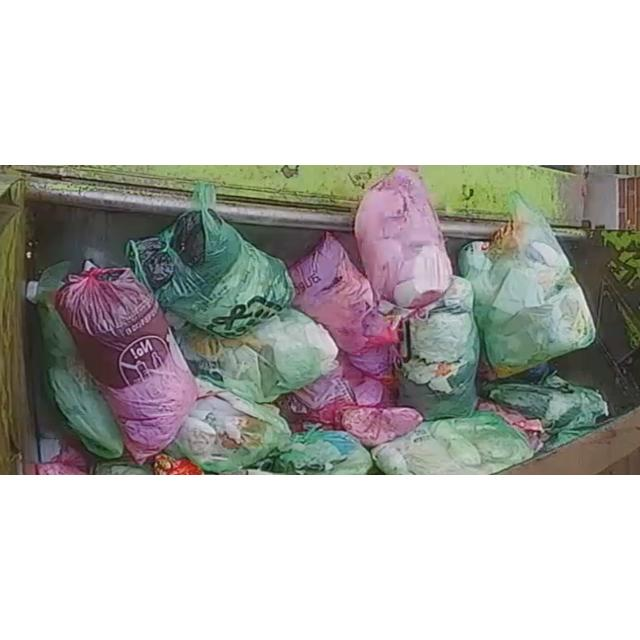general_trashbag: (125, 184, 294, 338), (459, 192, 595, 376), (28, 261, 124, 458), (174, 309, 338, 403), (171, 379, 291, 473), (401, 276, 479, 420), (372, 411, 534, 475), (256, 429, 372, 475)
other_trashbag: (56, 268, 198, 464), (355, 169, 452, 308), (290, 232, 398, 355), (281, 354, 388, 429), (341, 408, 422, 448)
